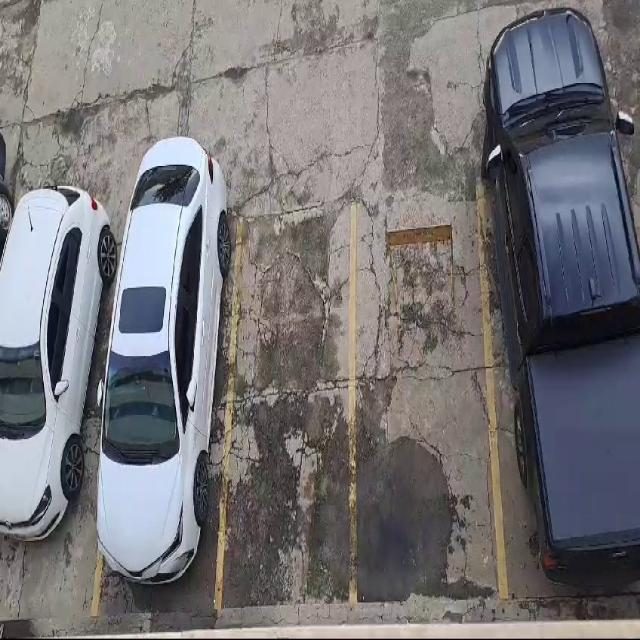empty: (352, 184, 506, 602), (218, 203, 355, 607)
notEmpty: (479, 160, 639, 603), (94, 220, 242, 611), (1, 234, 129, 616)
